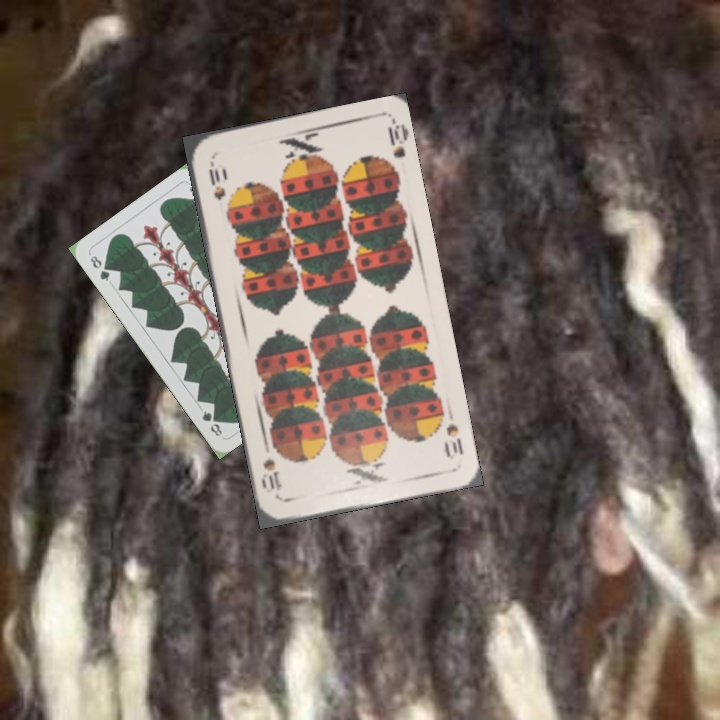G8: (86, 251, 113, 284)
S10: (440, 404, 466, 462), (204, 157, 228, 203)
